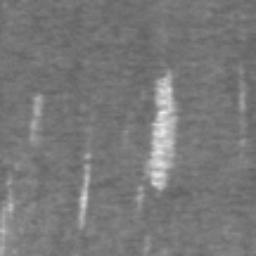White rust: (146, 70, 178, 191), (0, 194, 15, 256), (77, 164, 91, 230), (30, 95, 43, 141), (137, 186, 144, 202), (240, 92, 245, 109), (84, 153, 91, 159)
